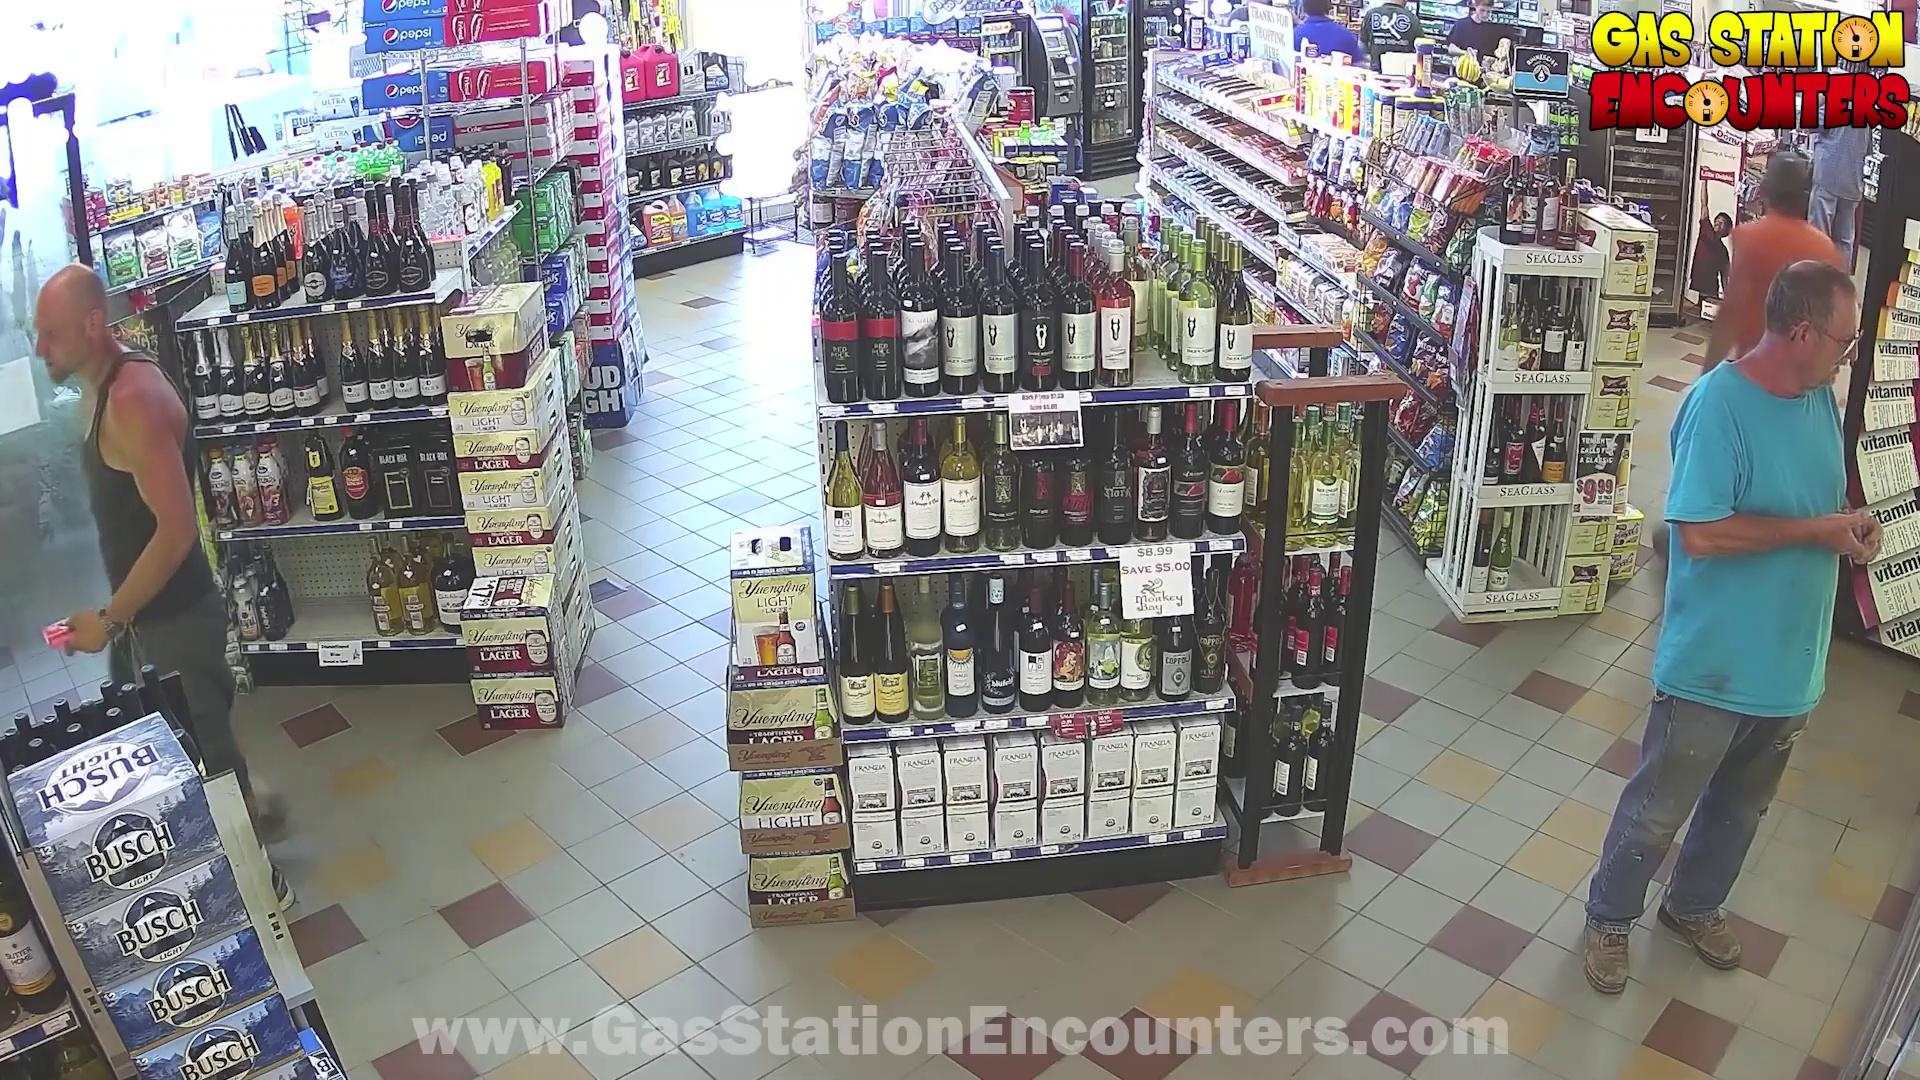Product: (17, 605, 95, 657)
Product-Picked: (0, 228, 396, 898)
Regular: (1548, 264, 1920, 976)
